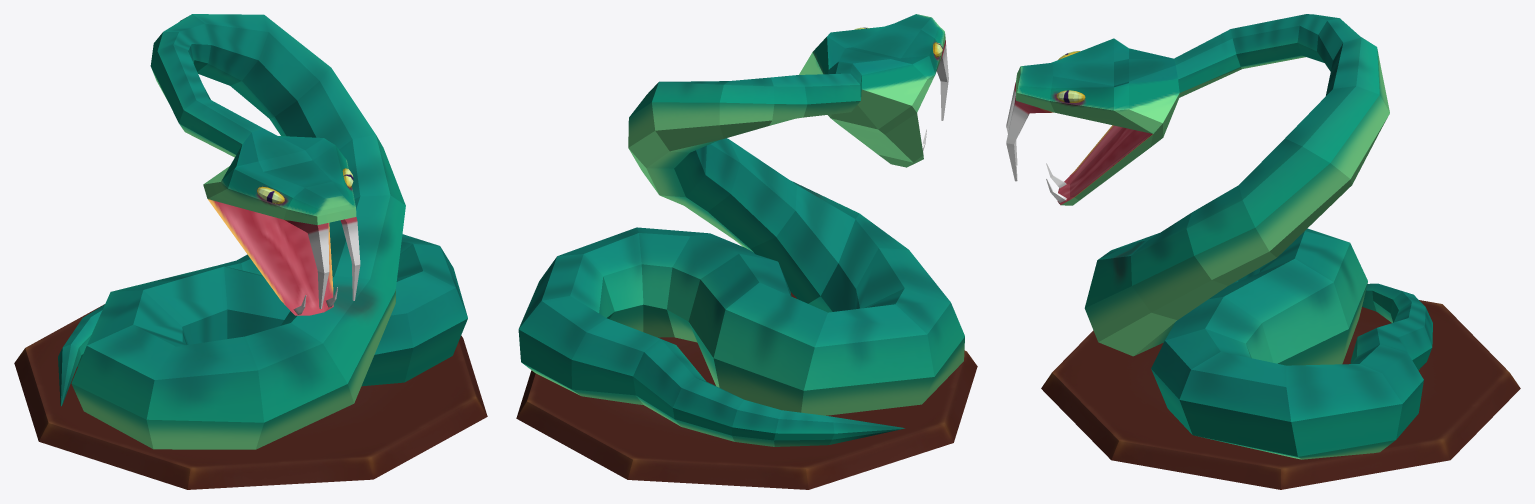
Rendered from Asset_Enemy_Snake.fbx.
The picture shows the model from 3 angles, left to right: view 1: azimuth 30°, elevation 25°; view 2: azimuth 150°, elevation 25°; view 3: azimuth 270°, elevation 25°; orthographic projection. The views are drawn at different scales.
Parts seen in each view (by area): view 1: Asset_Enemy_Snake, snake_stand; view 2: Asset_Enemy_Snake, snake_stand; view 3: Asset_Enemy_Snake, snake_stand.
Boxes of the visible parts, box(x1,y1,x2,y2) form: Asset_Enemy_Snake: box(58, 14, 467, 449); snake_stand: box(14, 304, 487, 489); Asset_Enemy_Snake: box(518, 14, 964, 446); snake_stand: box(516, 291, 977, 489); Asset_Enemy_Snake: box(1006, 14, 1432, 459); snake_stand: box(1041, 300, 1520, 489).
Bounding box in the file's own units: 69.96 × 55.5 × 75.04.
